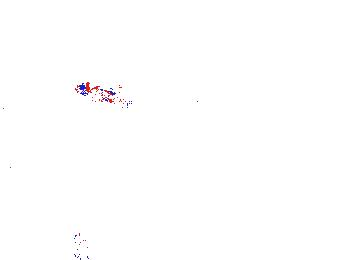red belly glassfish: (79, 78, 134, 108)
